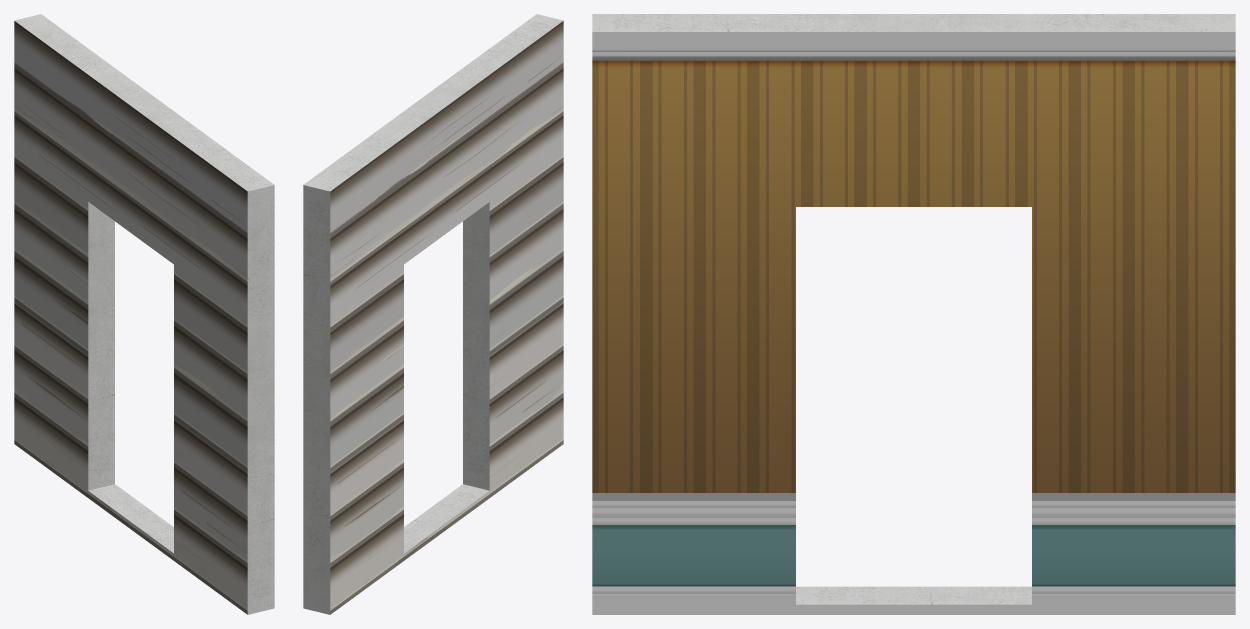
File: wall01_door1m.fbx
The picture shows the model from 3 angles, left to right: view 1: azimuth 30°, elevation 25°; view 2: azimuth 150°, elevation 25°; view 3: azimuth 270°, elevation 25°; orthographic projection. The views are drawn at different scales.
Parts seen in each view (by area): view 1: wall01_door1m; view 2: wall01_door1m; view 3: wall01_door1m.
Part boxes in pixels (x1,y1,x2,y2): wall01_door1m: [14, 14, 274, 614]; wall01_door1m: [303, 14, 563, 614]; wall01_door1m: [592, 14, 1235, 614].
Size of the model in its own units: 20 by 300 by 300.
